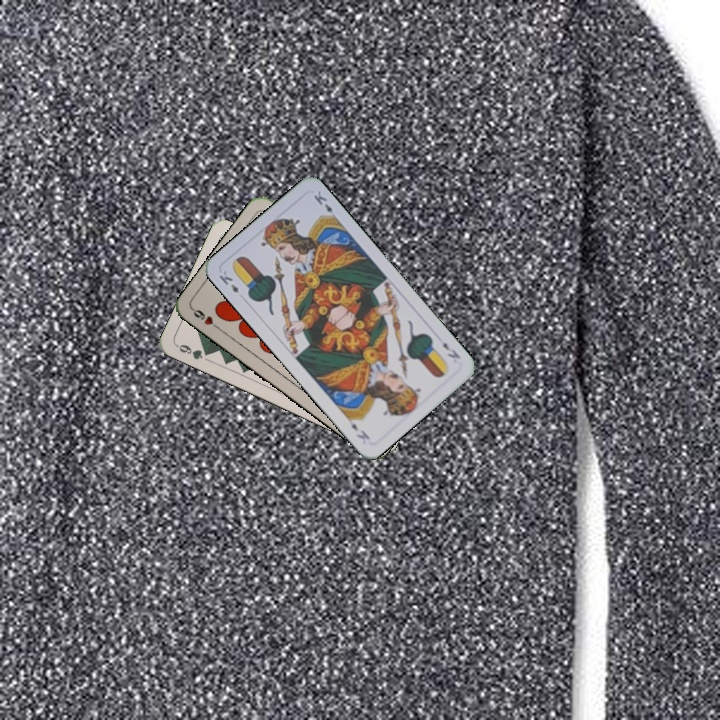EK: (215, 266, 242, 296), (438, 338, 463, 362)
G9: (172, 340, 214, 362)
H9: (189, 304, 224, 333)
